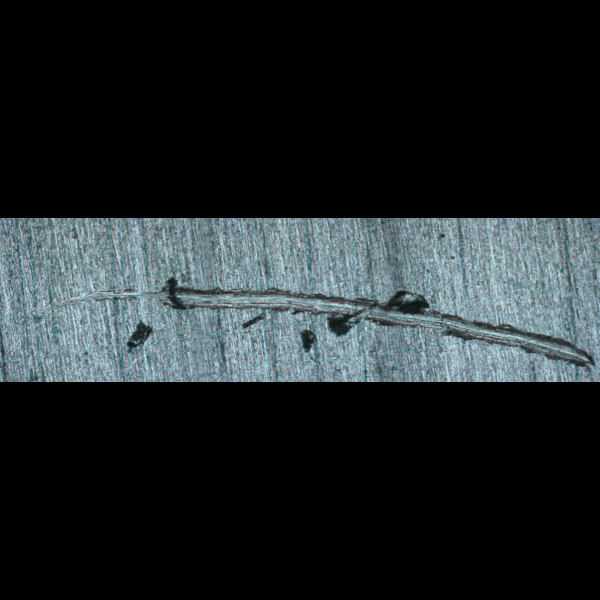d: (15, 273, 596, 372)
